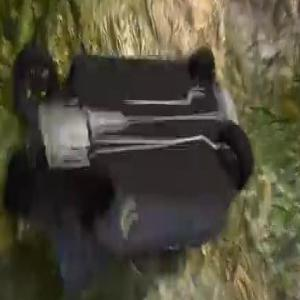critical: (5, 33, 253, 281)
